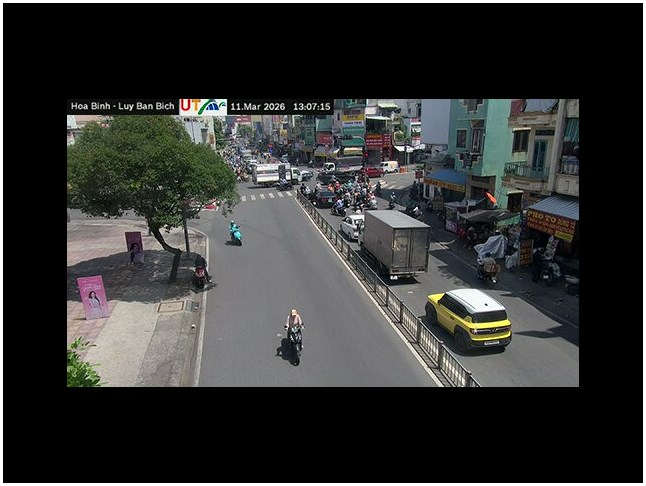car: (424, 286, 513, 354)
truck: (360, 208, 431, 282)
